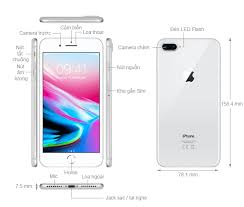iphone8: (36, 35, 106, 169), (152, 36, 222, 170)
